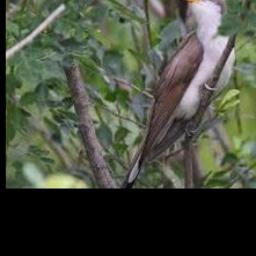Cuckoo: (124, 0, 234, 187)
